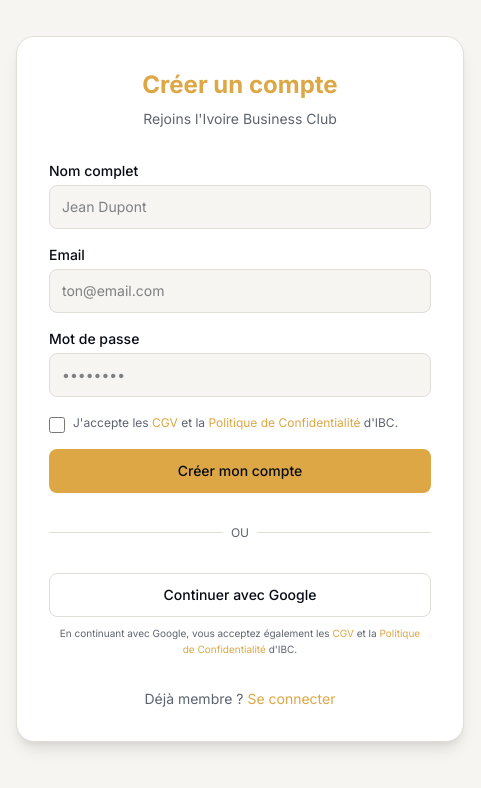
Test: SignUpPage › prevents submission and displays validation error if acceptTerms checkbox is not checked
Type "Jean" into the field with placeholder "Jean Dupont". click: point(240, 207)
box: [49, 185, 431, 229]
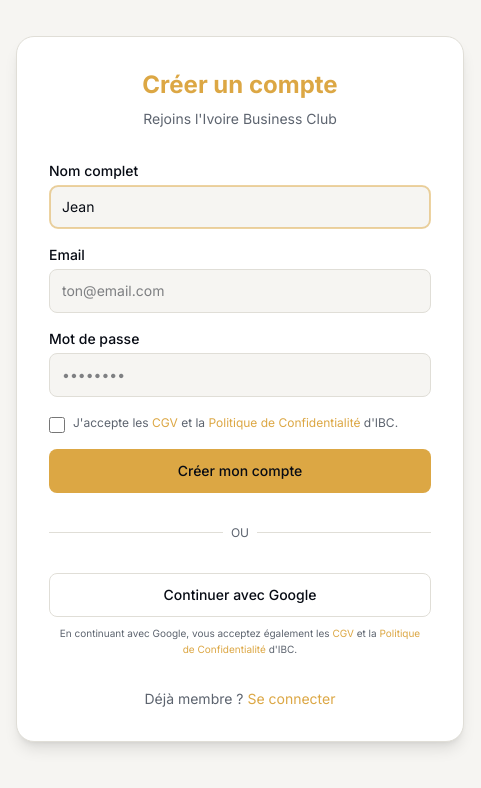
Type "test@example.com" into the field with placeholder "ton@email.com". click: point(240, 291)
box: [49, 269, 431, 313]
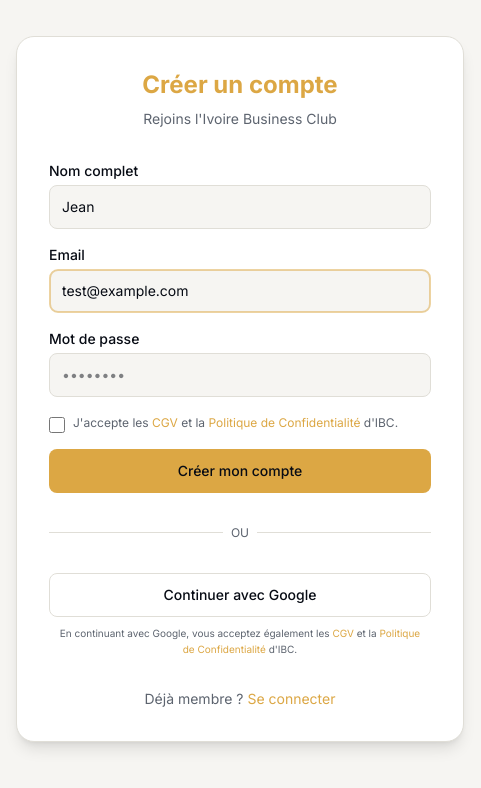
Type "securePass123!" into the password field with placeholder "••••••••". click: point(240, 375)
box: [49, 353, 431, 397]
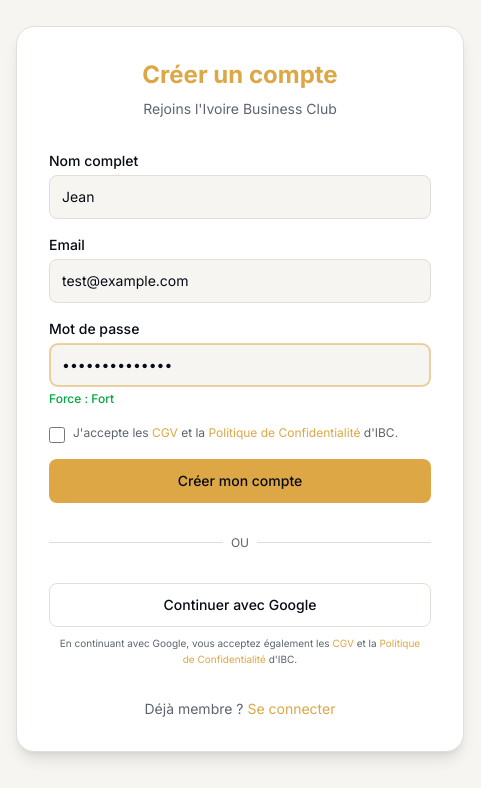
# Do NOT check the checkbox
Click the button "Créer mon compte". click: point(240, 481)
box: [49, 459, 431, 503]
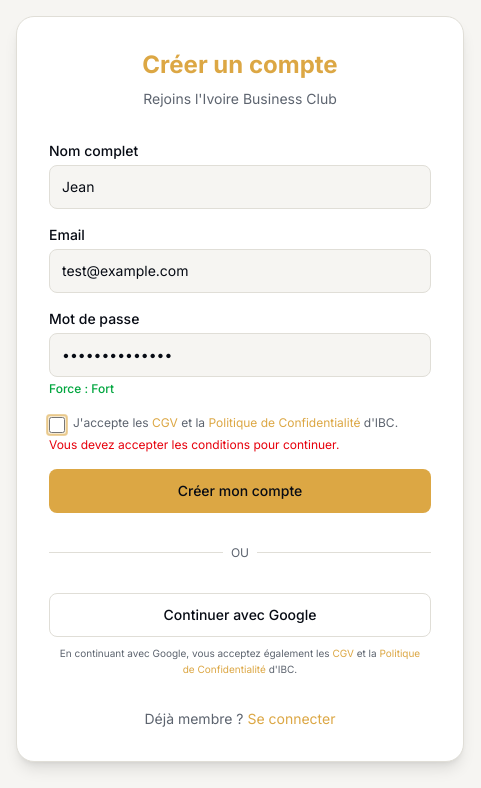
Result: the text "Vous devez accepter les conditions pour continuer." is shown at [49, 437, 339, 452]
